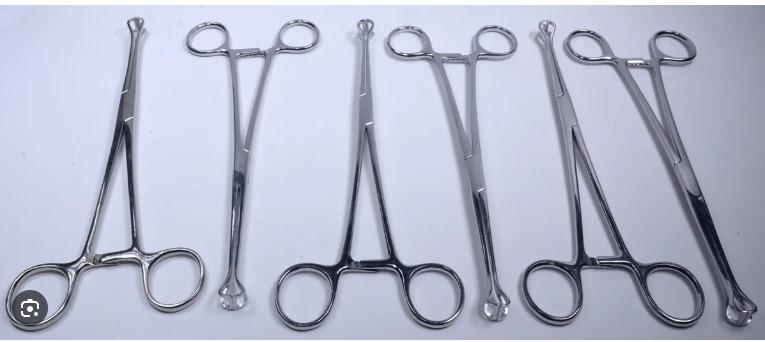Babcock Forceps: (3, 15, 207, 337), (273, 16, 464, 335), (563, 24, 759, 329), (518, 20, 709, 328), (383, 13, 522, 324), (182, 14, 324, 313)
